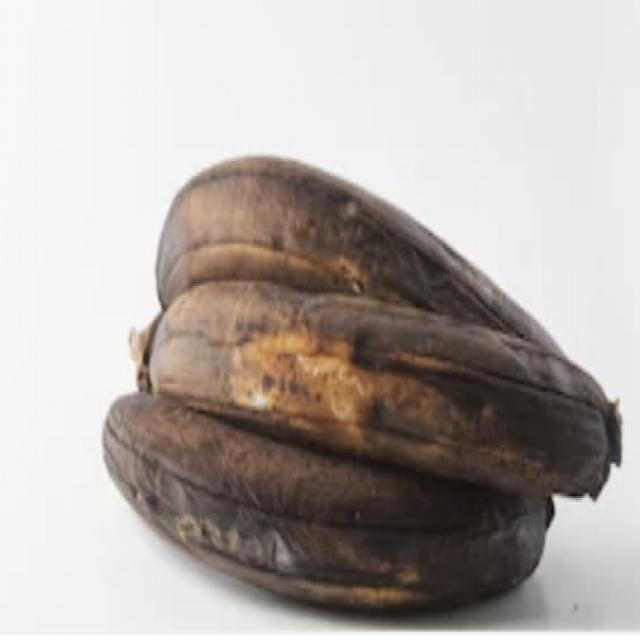rotten-banana: (90, 393, 589, 610), (99, 296, 622, 484), (129, 145, 531, 321)
